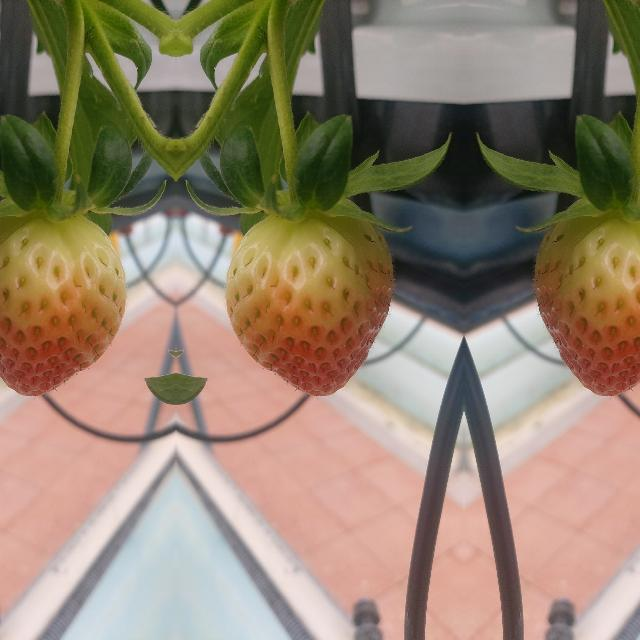Health_75: (224, 215, 392, 395), (0, 215, 126, 395), (534, 215, 640, 395)
